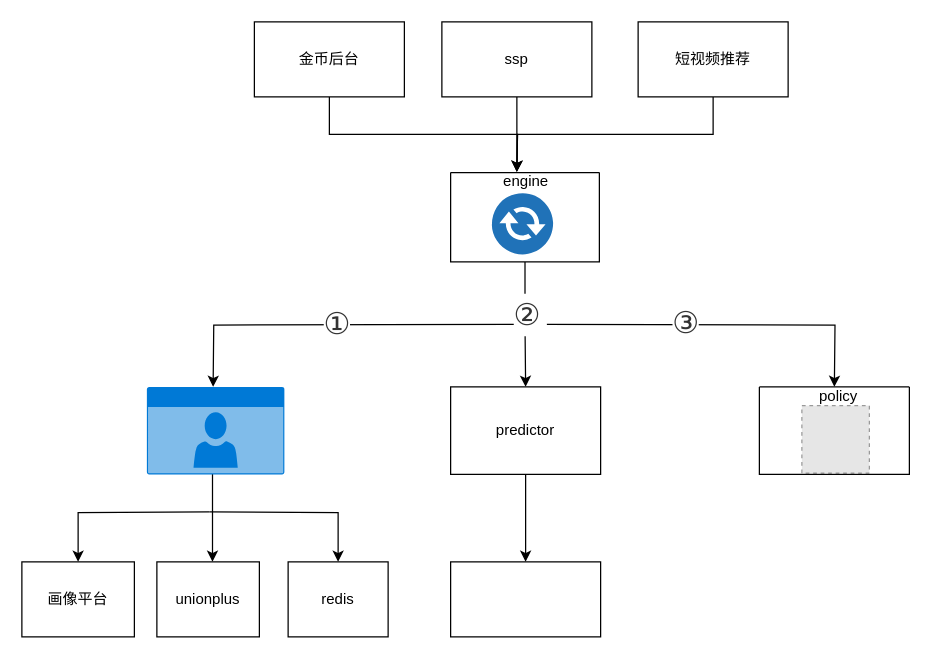
Some shapes in this 931 by 659 pixel diagram are drawn without their labels. Grey dashed boxes stand in for pictures. Here are the shapes that lost their labels. From the top down, the centre of each, then its label:
[215,430]: Profile
[525,599]: venus
